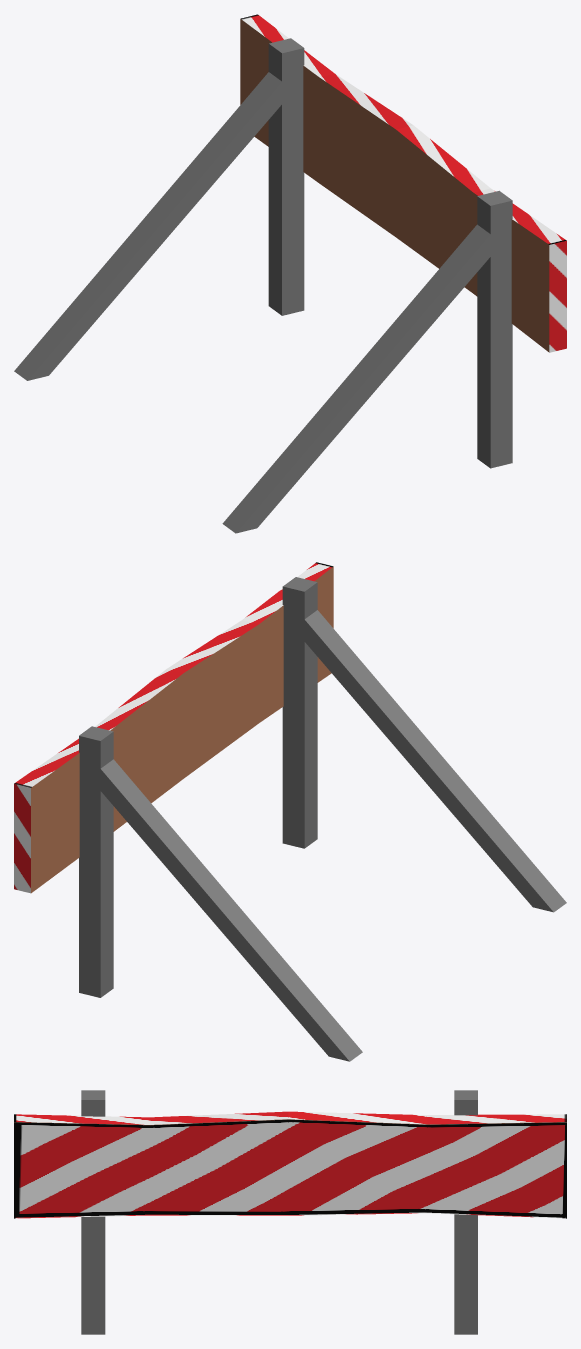
The model's file is Dead-EndStop.fbx.
The picture shows the model from 3 angles, top to bottom: view 1: azimuth 30°, elevation 25°; view 2: azimuth 150°, elevation 25°; view 3: azimuth 270°, elevation 25°; orthographic projection. The views are drawn at different scales.
Visible parts, largest first — view 1: Dead-endStop; view 2: Dead-endStop; view 3: Dead-endStop.
Boxes of the visible parts, <box> form: Dead-endStop: <box>14,14,566,533</box>; Dead-endStop: <box>14,562,566,1061</box>; Dead-endStop: <box>14,1090,566,1334</box>.
Size of the model in its own units: 569 by 492 by 1038.
